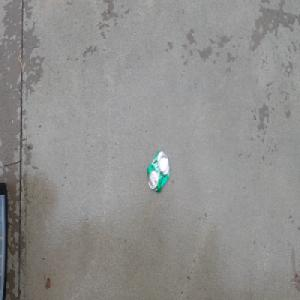SodaCan: (146, 148, 171, 194)
